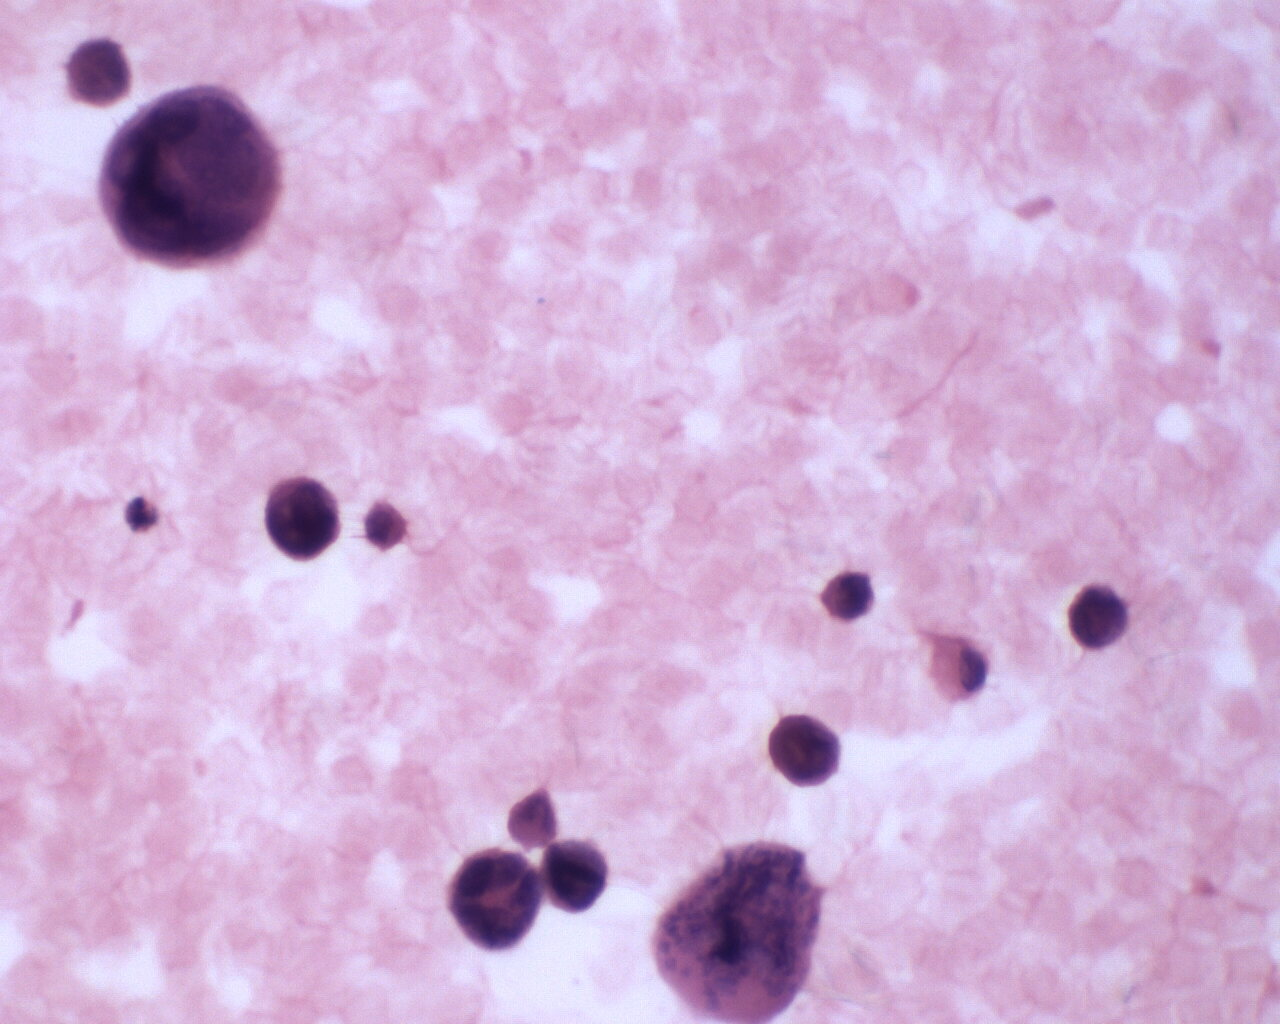ab: (97, 85, 294, 270), (448, 840, 545, 960), (254, 475, 346, 566), (753, 708, 851, 792), (61, 32, 138, 117), (537, 838, 611, 917), (1062, 580, 1134, 658), (813, 565, 889, 628)
